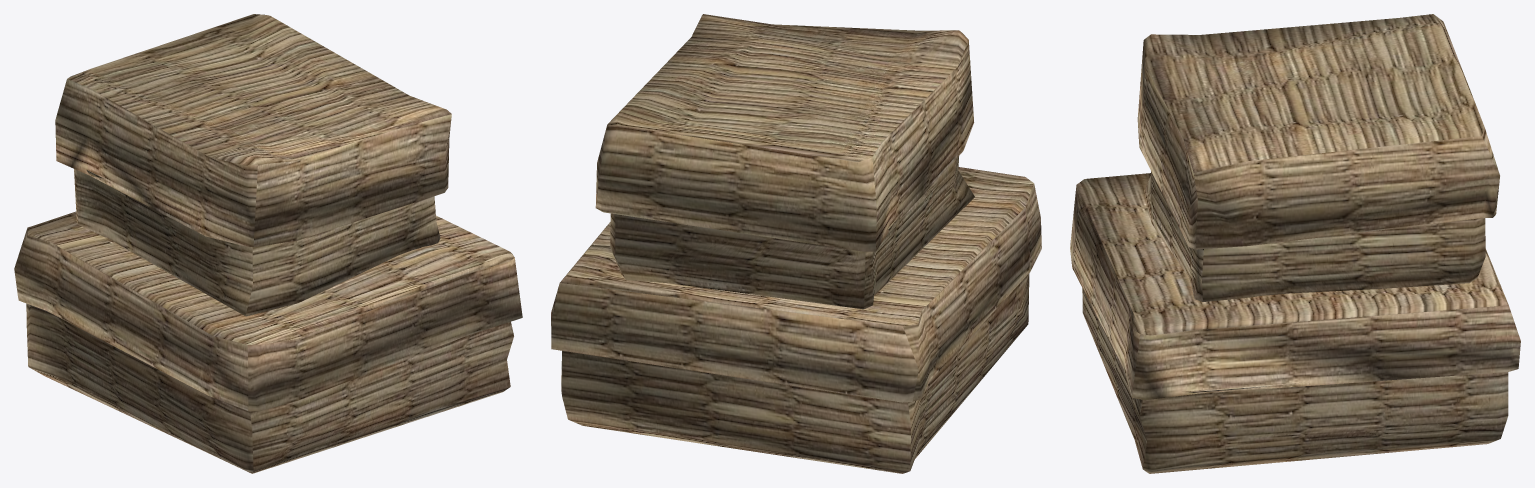
Rendered from shelf-rattan_box.glb.
The picture shows the model from 3 angles, left to right: view 1: azimuth 30°, elevation 25°; view 2: azimuth 150°, elevation 25°; view 3: azimuth 270°, elevation 25°; orthographic projection. The views are drawn at different scales.
Parts seen in each view (by area): view 1: rattan_box.001; view 2: rattan_box.001; view 3: rattan_box.001.
Part boxes in pixels (bbox=[...]): rattan_box.001: bbox=[14, 14, 522, 473]; rattan_box.001: bbox=[551, 14, 1041, 473]; rattan_box.001: bbox=[1070, 14, 1520, 473].
Size of the model in its own units: 0.2579 by 0.2002 by 0.2621.
1 material, 1 textured.
